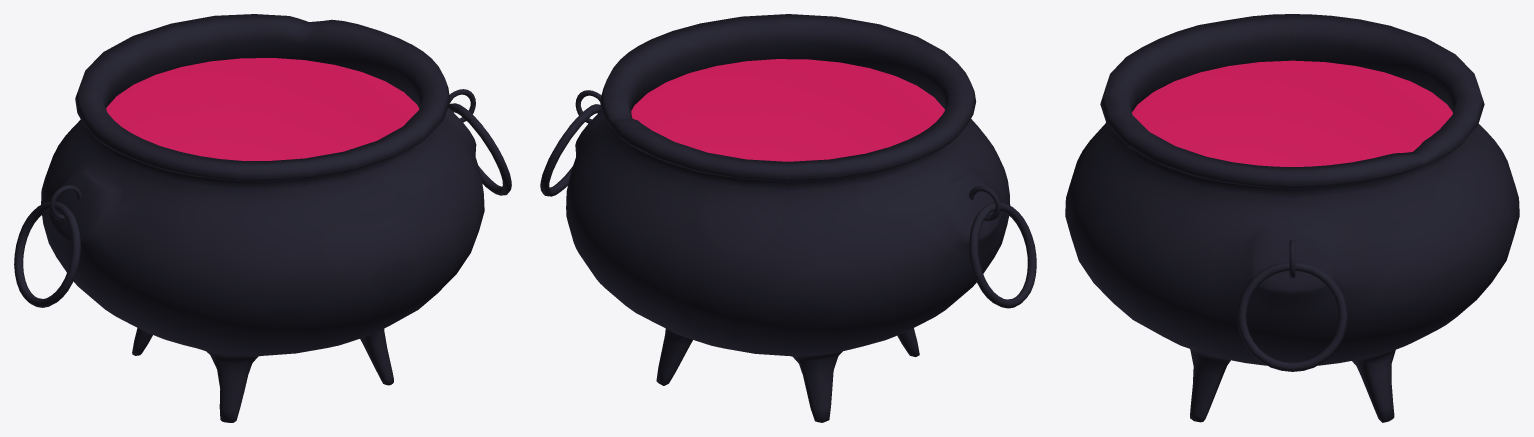
Rendered from CauldronDone.fbx.
3 views of the same model, side by side, from view 1: azimuth 30°, elevation 25°; view 2: azimuth 150°, elevation 25°; view 3: azimuth 270°, elevation 25° (orthographic). The views are drawn at different scales.
Parts seen in each view (by area): view 1: Pot.004, Circle; view 2: Pot.004, Circle; view 3: Pot.004, Circle.
Part boxes in pixels (left/top/right/bottom): Pot.004: left=14, top=14, right=511, bottom=422; Circle: left=106, top=58, right=419, bottom=160; Pot.004: left=540, top=14, right=1036, bottom=422; Circle: left=631, top=59, right=944, bottom=161; Pot.004: left=1065, top=14, right=1519, bottom=422; Circle: left=1132, top=60, right=1452, bottom=166.
Bounding box in the file's own units: 305 × 173 × 249.
